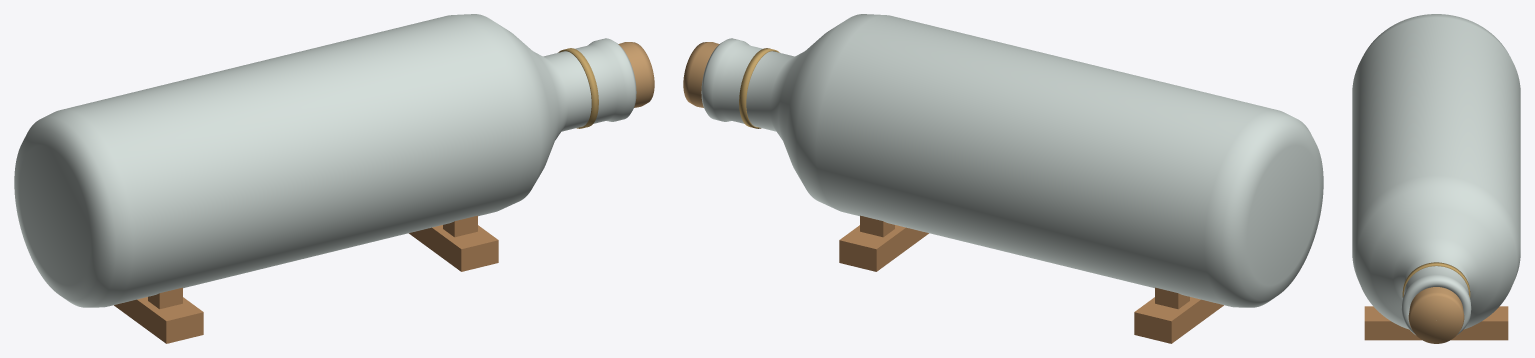
The model's file is sailboat-bottle-v6.glb.
The picture shows the model from 3 angles, left to right: view 1: azimuth 30°, elevation 25°; view 2: azimuth 150°, elevation 25°; view 3: azimuth 270°, elevation 25°; orthographic projection. The views are drawn at different scales.
Visible parts, largest first — view 1: Bottle | thick transparent glass, Cradle | timber foot.001, Cradle | timber foot, Bottle | cork stopper, Bottle | neck brass collar, Cradle | support, Cradle | support.002; view 2: Bottle | thick transparent glass, Cradle | timber foot.001, Cradle | timber foot, Bottle | cork stopper, Bottle | neck brass collar, Cradle | support.001, Cradle | support.003; view 3: Bottle | thick transparent glass, Bottle | cork stopper, Cradle | timber foot.001, Bottle | neck brass collar.
Boxes of the visible parts, bbox=[...] form: Bottle | thick transparent glass: bbox=[14, 14, 636, 307]; Cradle | timber foot.001: bbox=[409, 225, 498, 271]; Cradle | timber foot: bbox=[114, 297, 203, 343]; Bottle | cork stopper: bbox=[618, 42, 654, 107]; Bottle | neck brass collar: bbox=[558, 48, 598, 128]; Cradle | support: bbox=[148, 287, 182, 309]; Cradle | support.002: bbox=[443, 215, 477, 237]; Bottle | thick transparent glass: bbox=[701, 14, 1323, 307]; Cradle | timber foot.001: bbox=[839, 225, 928, 271]; Cradle | timber foot: bbox=[1134, 297, 1223, 343]; Bottle | cork stopper: bbox=[683, 42, 719, 107]; Bottle | neck brass collar: bbox=[739, 48, 779, 128]; Cradle | support.001: bbox=[1155, 287, 1189, 309]; Cradle | support.003: bbox=[860, 215, 894, 237]; Bottle | thick transparent glass: bbox=[1352, 14, 1520, 334]; Bottle | cork stopper: bbox=[1408, 287, 1464, 343]; Cradle | timber foot.001: bbox=[1364, 306, 1508, 340]; Bottle | neck brass collar: bbox=[1402, 262, 1470, 297].
Size of the model in its own units: 1.88 by 0.632 by 0.564.
